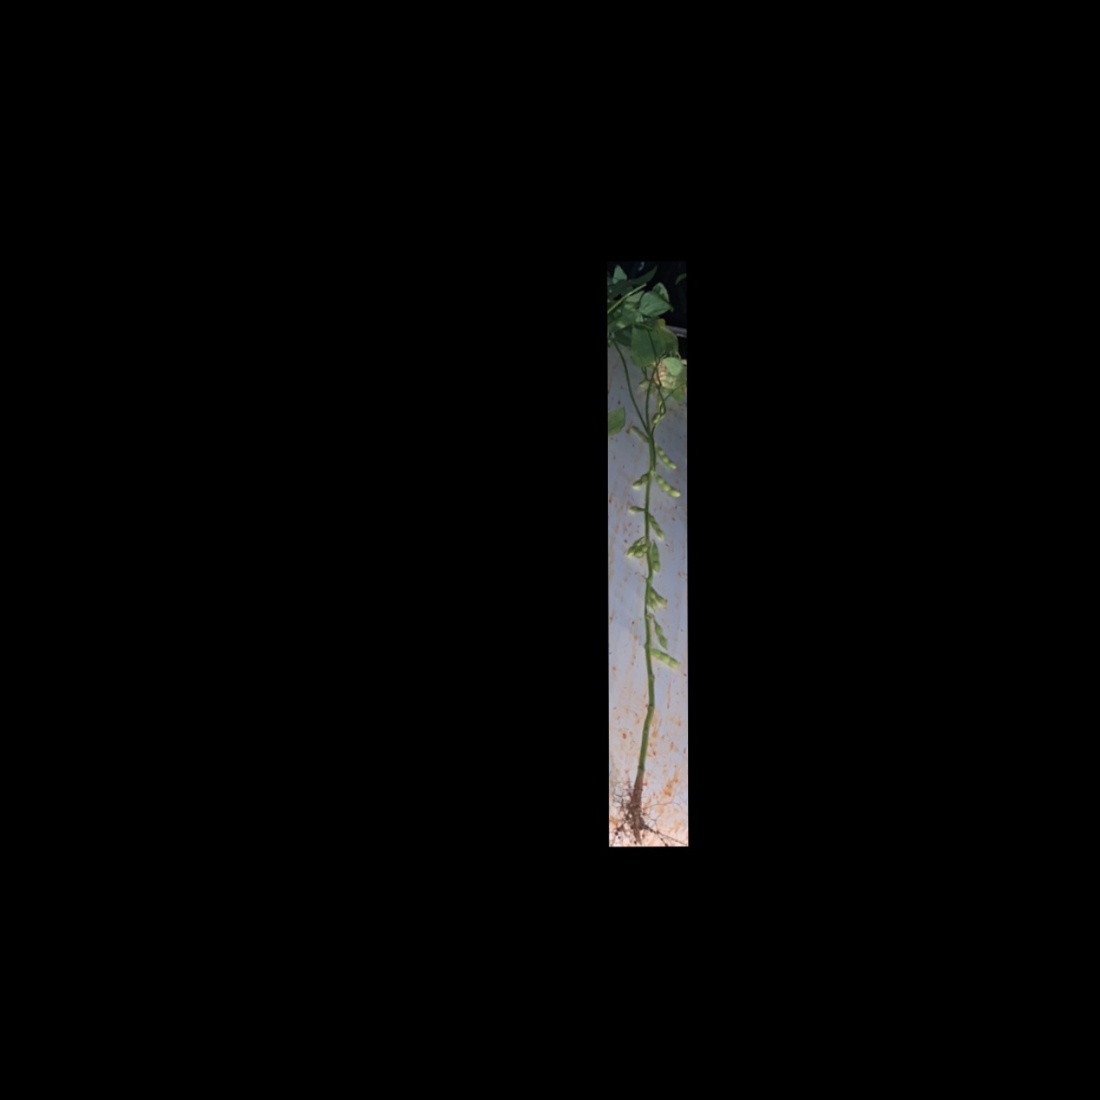pod: (652, 471, 681, 500), (654, 443, 679, 472), (649, 648, 681, 669), (650, 617, 669, 652), (647, 514, 667, 543), (649, 538, 663, 575), (647, 588, 668, 606), (631, 540, 646, 561), (630, 473, 648, 490)
soy: (613, 278, 686, 841)
